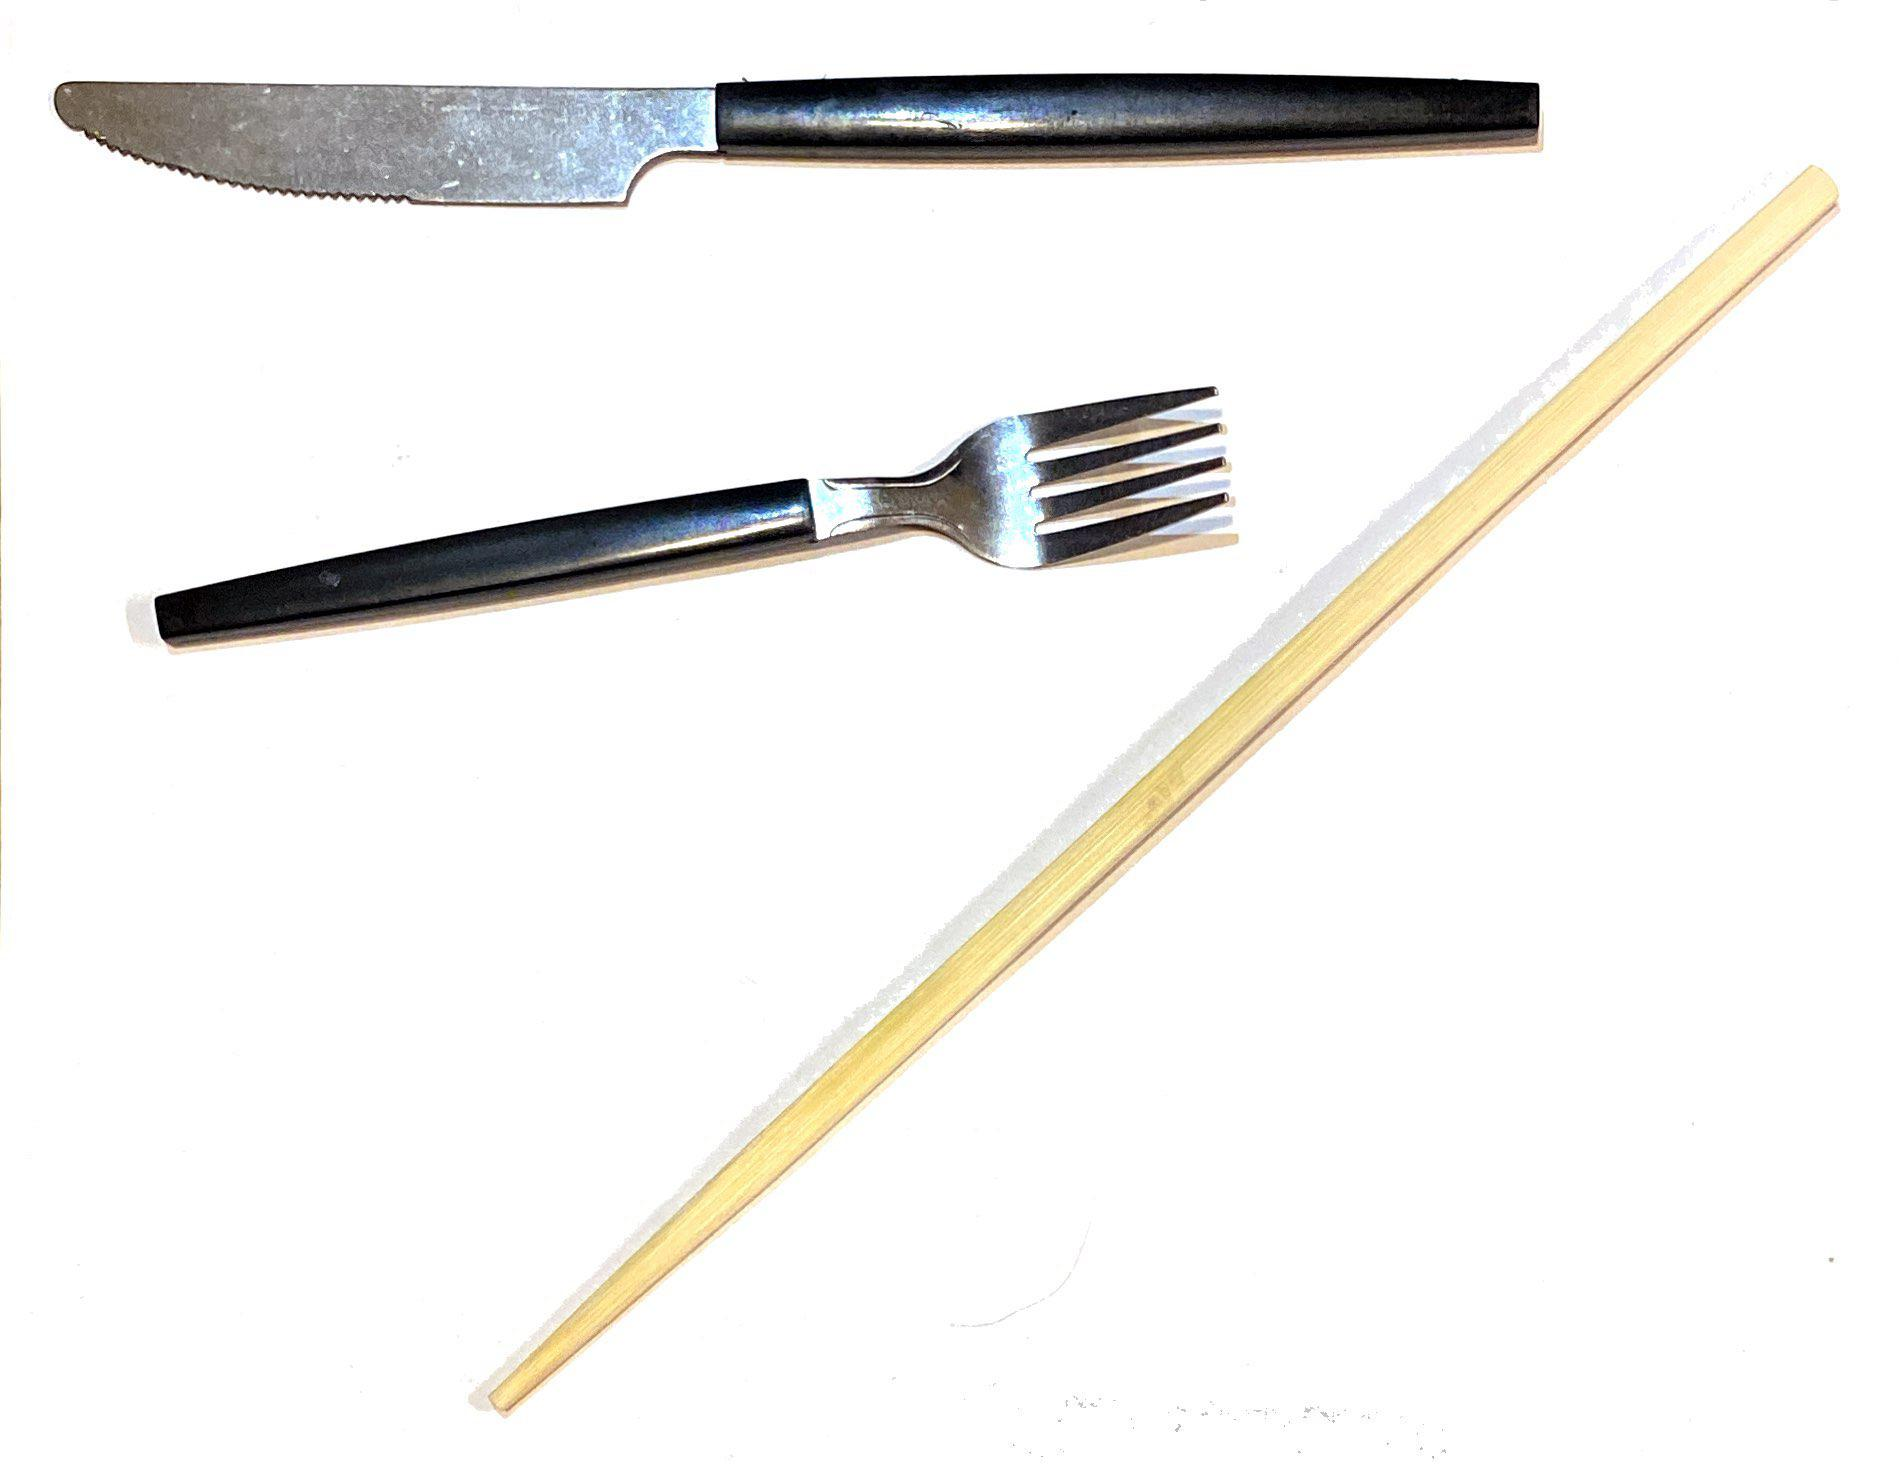Chopstick: (426, 155, 1886, 1445)
Fork: (112, 352, 1264, 728)
Knife: (22, 45, 1588, 252)
